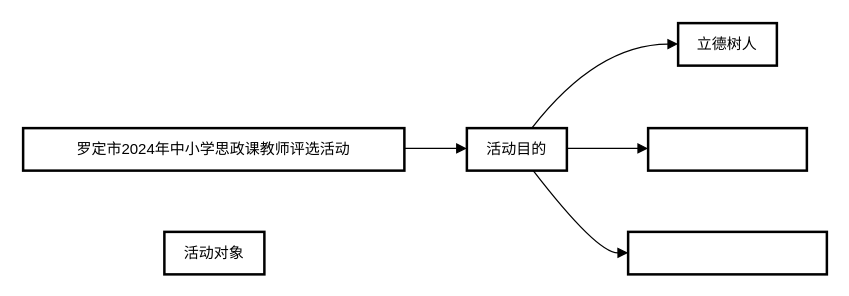
Image size: 849x296. Some labels were removed from this diagram. The shapes that lost their labels are listed below. From the top down, each one's centre as x and y in pixels, then its label:
(x=727, y=148): 推进一体化建设
(x=727, y=252): 促进教育高质量发展
